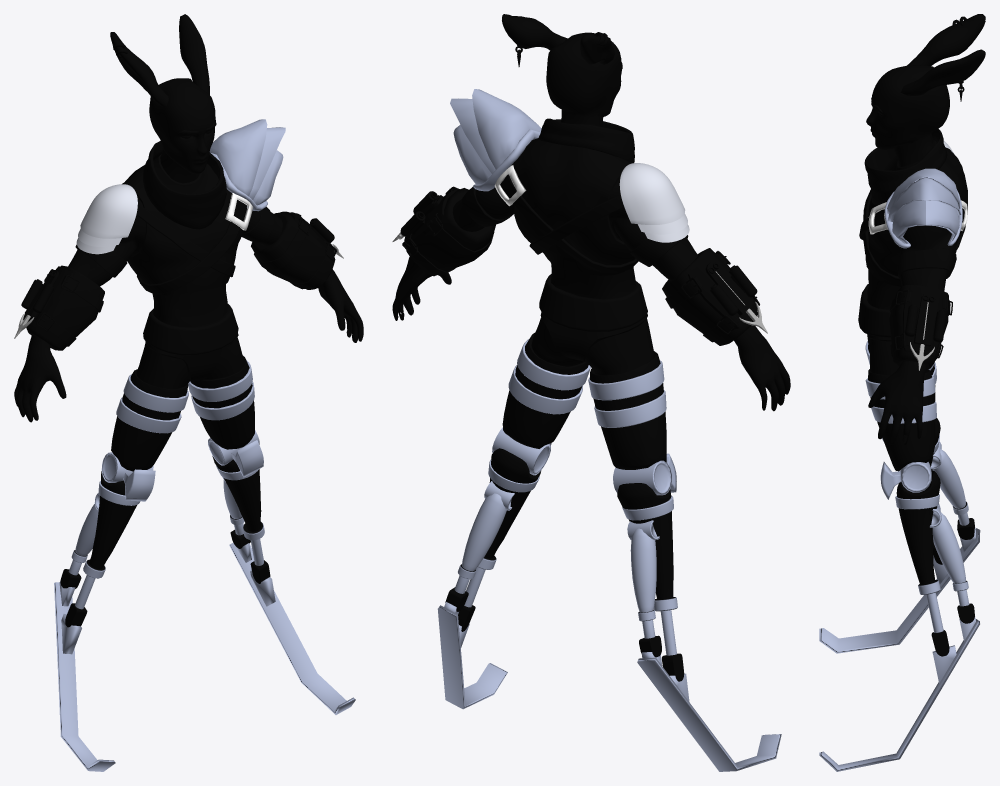
Rendered from greyhareUnrigged.fbx.
The picture shows the model from 3 angles, left to right: view 1: azimuth 30°, elevation 25°; view 2: azimuth 150°, elevation 25°; view 3: azimuth 270°, elevation 25°; orthographic projection. The views are drawn at different scales.
Visible parts, largest first — view 1: GreyHare_Low; view 2: GreyHare_Low; view 3: GreyHare_Low.
Boxes of the visible parts, bbox=[...] form: GreyHare_Low: bbox=[14, 14, 363, 771]; GreyHare_Low: bbox=[392, 14, 790, 771]; GreyHare_Low: bbox=[819, 14, 985, 771].
Bounding box in the file's own units: 109 × 207 × 45.98.
